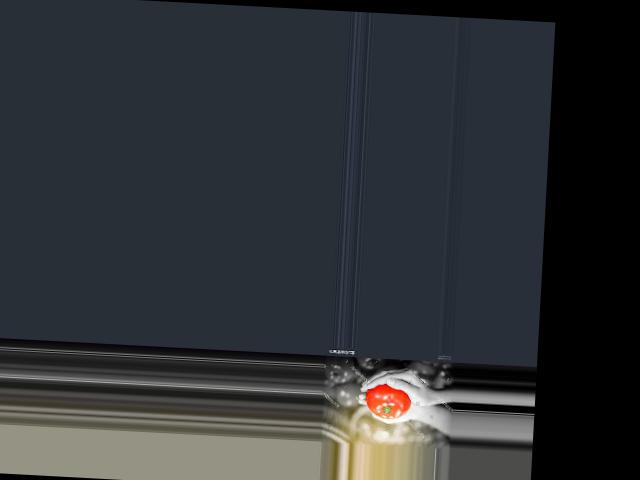tomato: (365, 382, 412, 419)
